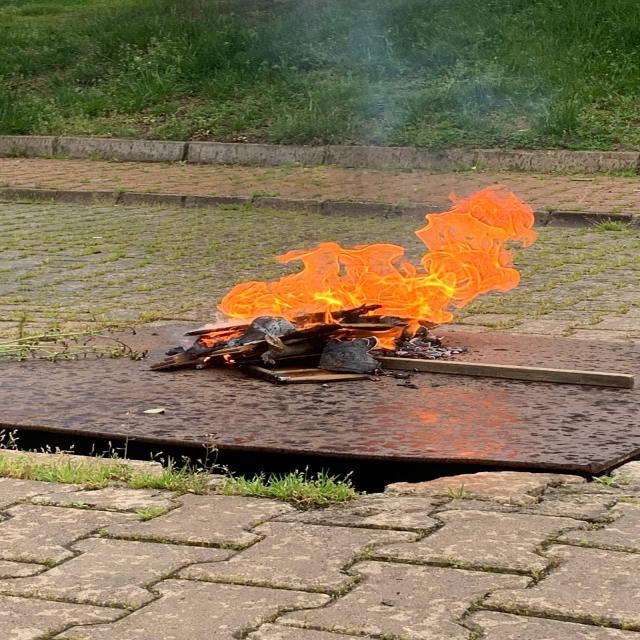fire: (157, 184, 555, 334)
